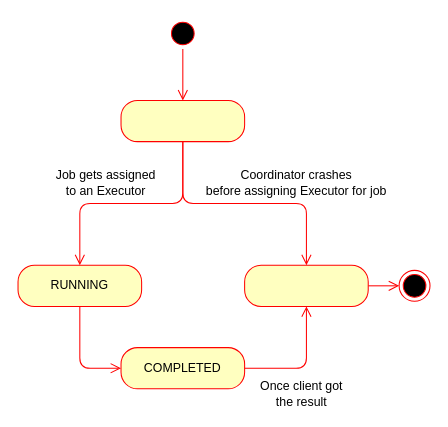
The diagram is 448 pixels wide and 427 high, and some of its shapes have lost their labels. The centre of each missing label's shape, as x and y in pixels:
"PENDING" belongs at point (182, 120).
"REMOVED" belongs at point (306, 285).
